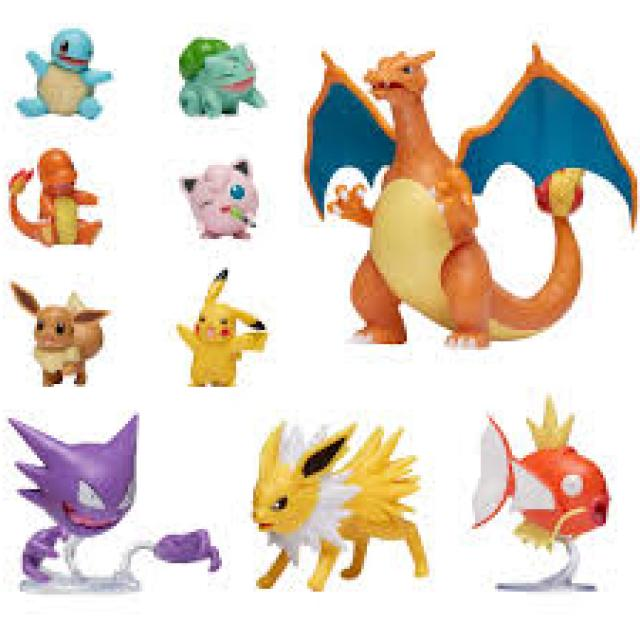Bulbasaur: (177, 34, 260, 116)
Charizard: (320, 41, 558, 347)
Charmander: (22, 146, 99, 250)
Eevee: (21, 297, 99, 387)
Haunter: (12, 410, 152, 584)
Jigglypuff: (182, 156, 260, 239)
Jolteon: (248, 420, 422, 588)
Magikarp: (468, 422, 613, 552)
Pikachu: (180, 296, 249, 388)
Squirtle: (20, 25, 108, 118)
